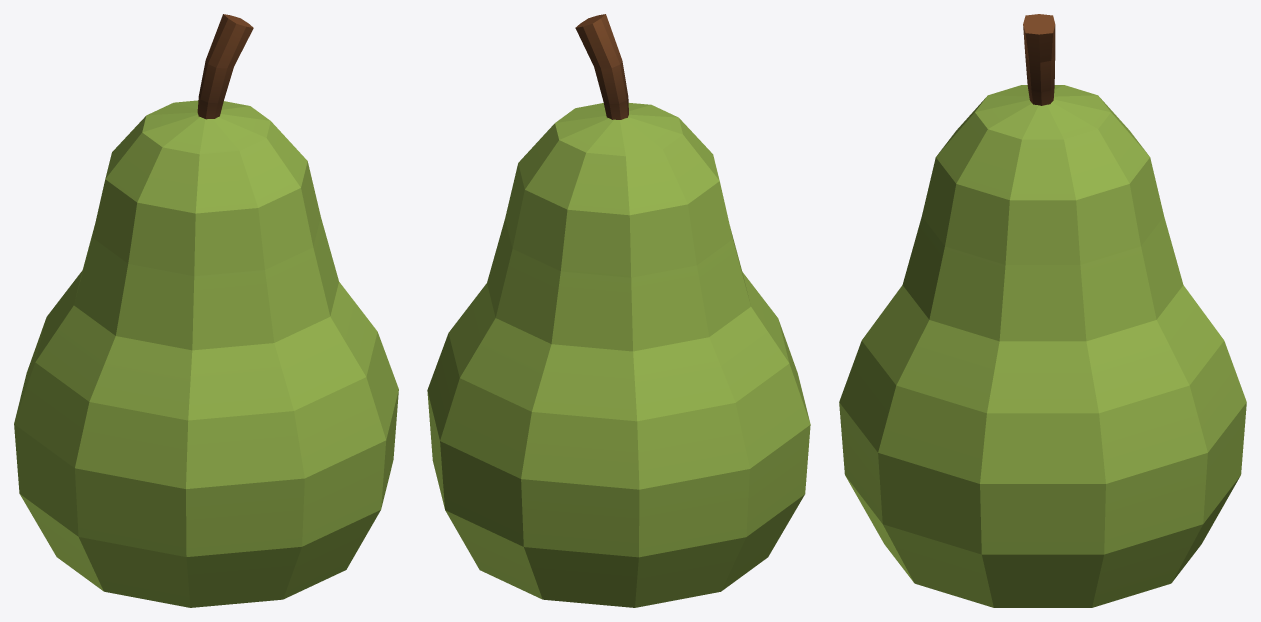
The model's file is pear_1a.fbx.
3 views of the same model, side by side, from view 1: azimuth 30°, elevation 25°; view 2: azimuth 150°, elevation 25°; view 3: azimuth 270°, elevation 25° (orthographic). The views are drawn at different scales.
Visible parts, largest first — view 1: pear_1a; view 2: pear_1a; view 3: pear_1a.
Part boxes in pixels (bbox=[...]): pear_1a: bbox=[14, 14, 398, 607]; pear_1a: bbox=[427, 14, 810, 607]; pear_1a: bbox=[839, 14, 1246, 607].
Bounding box in the file's own units: 0.0757 × 0.1207 × 0.0796.
